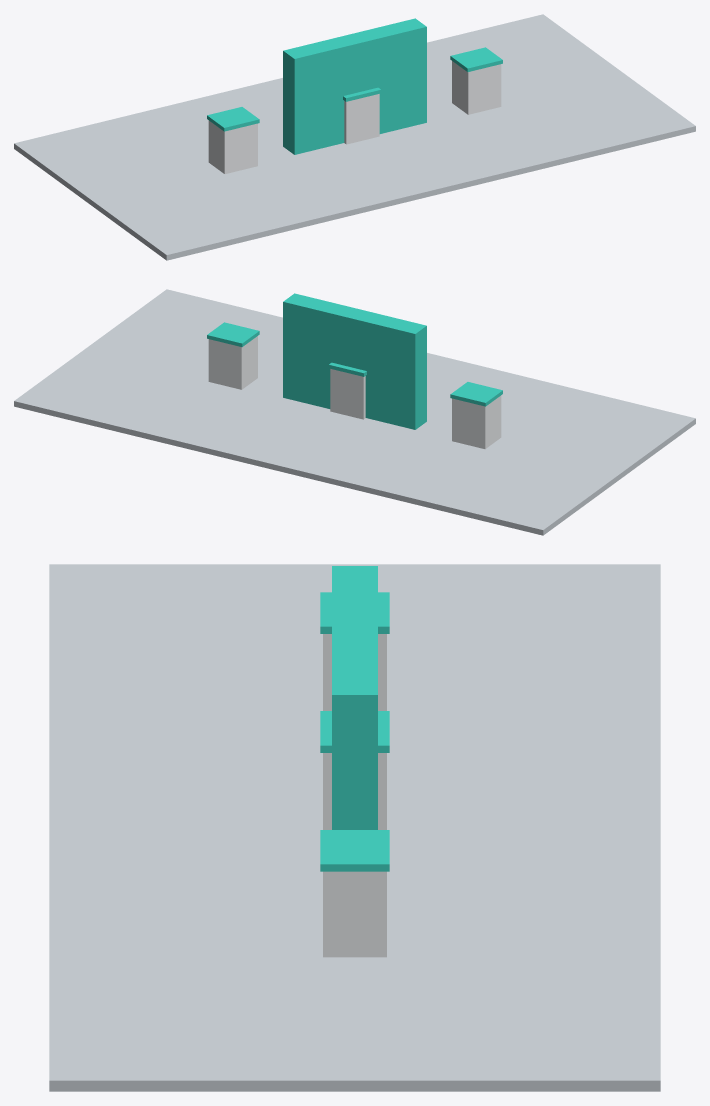
3 views of the same model, one above another, from view 1: azimuth 30°, elevation 25°; view 2: azimuth 150°, elevation 25°; view 3: azimuth 270°, elevation 25° (orthographic). The views are drawn at different scales.
Parts seen in each view (by area): view 1: Exhibition Booth Concept; view 2: Exhibition Booth Concept; view 3: Exhibition Booth Concept.
Part boxes in pixels (x1,y1,x2,y2): Exhibition Booth Concept: [14, 14, 695, 260]; Exhibition Booth Concept: [14, 289, 695, 535]; Exhibition Booth Concept: [49, 564, 660, 1091].
Size of the model in its own units: 12 by 2.2 by 6.
